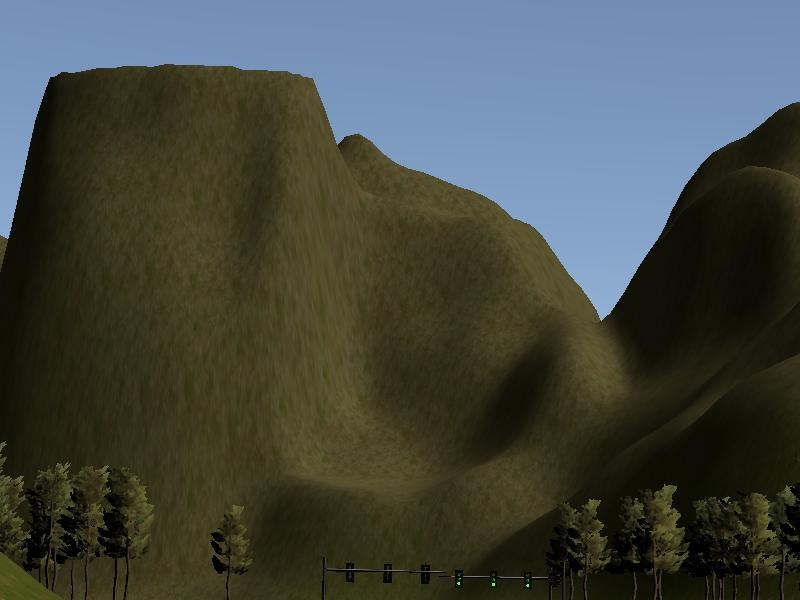Green: (454, 570, 464, 588), (524, 571, 532, 589), (490, 571, 497, 589)
